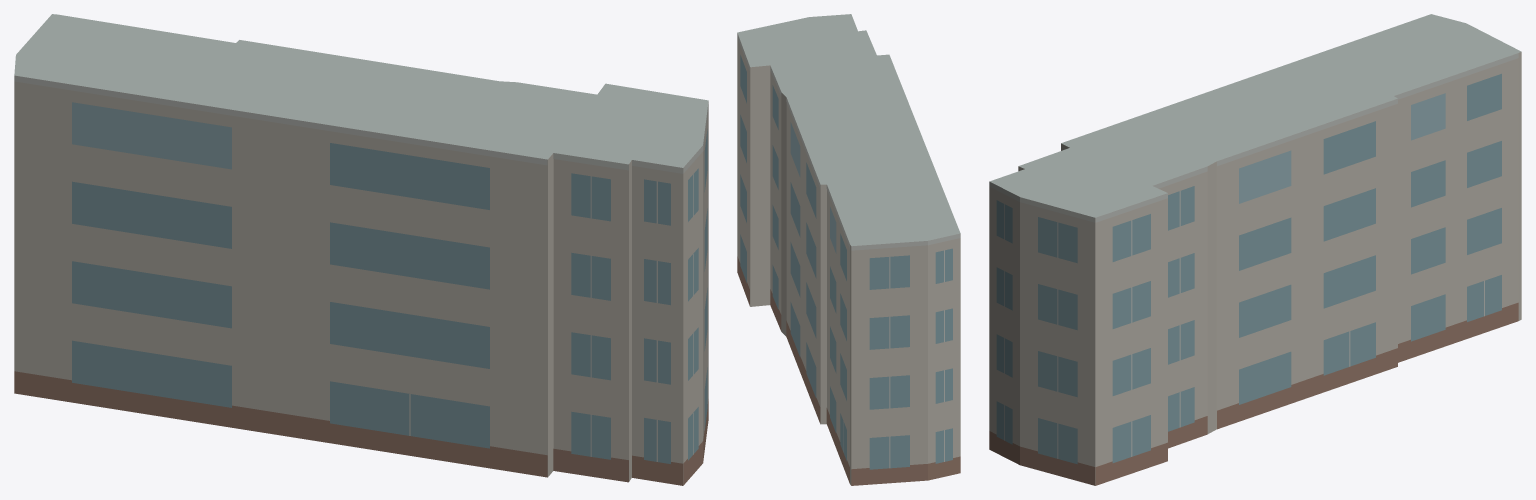
File: survey-upis-32614018.glb
3 views of the same model, side by side, from view 1: azimuth 30°, elevation 25°; view 2: azimuth 150°, elevation 25°; view 3: azimuth 270°, elevation 25° (orthographic). The views are drawn at different scales.
Visible parts, largest first — view 1: survey-upis-32614018.tmp; view 2: survey-upis-32614018.tmp; view 3: survey-upis-32614018.tmp.
Boxes of the visible parts, x1,y1,x2,y2 form: survey-upis-32614018.tmp: (14,14,708,485); survey-upis-32614018.tmp: (737,14,960,485); survey-upis-32614018.tmp: (989,14,1521,485).
Bounding box in the file's own units: 21.12 × 12.95 × 23.31.
